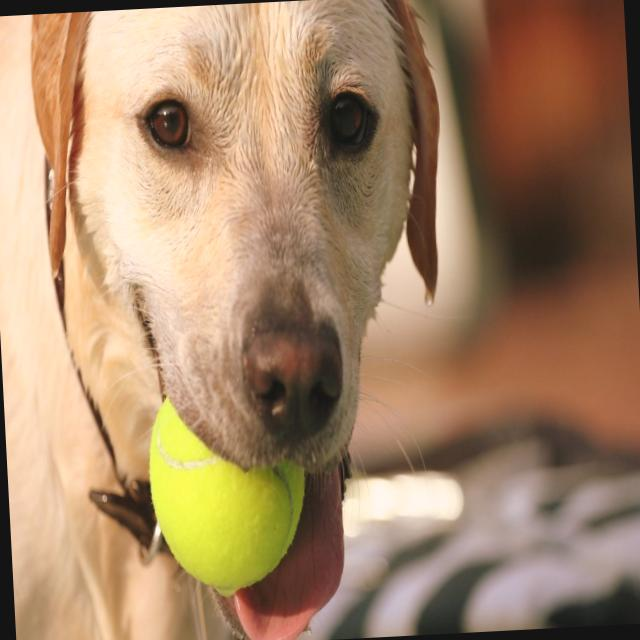Tennis Ball: (146, 388, 311, 600)
